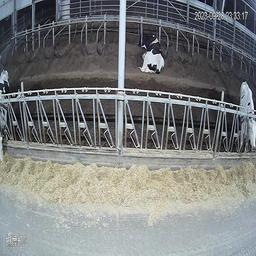cow: (0, 63, 14, 162), (240, 79, 256, 159), (139, 27, 165, 76)
